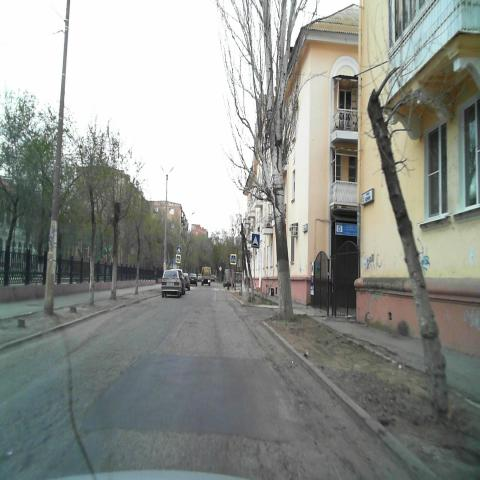5_19_1: (230, 253, 237, 265), (175, 254, 181, 264)
5_20: (251, 233, 259, 248), (176, 246, 180, 253)
